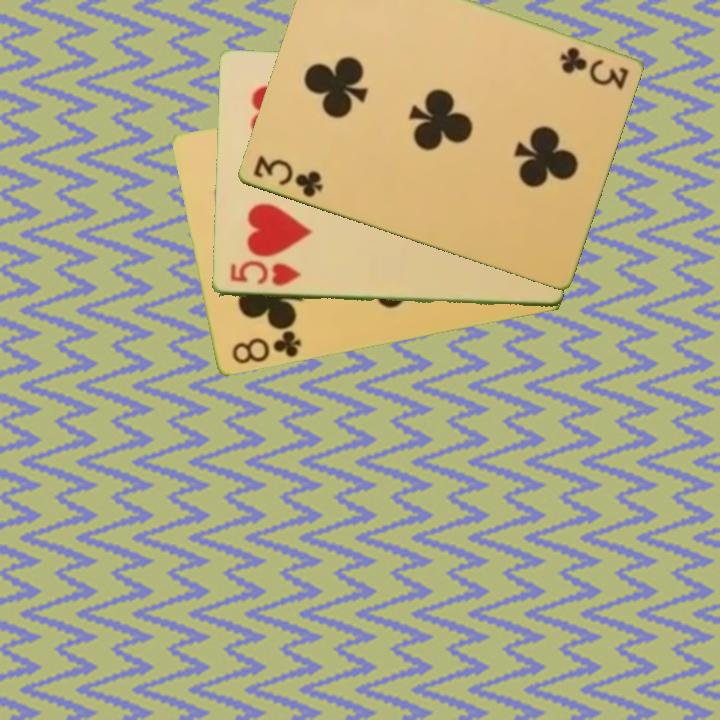3c: (249, 152, 326, 201), (555, 43, 631, 90)
5h: (226, 259, 303, 290)
8c: (228, 326, 304, 368)
